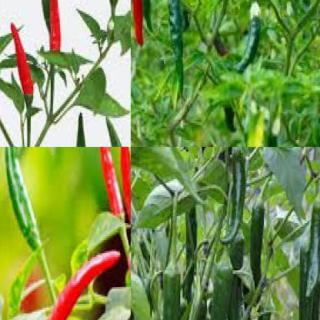green_chilli: (5, 147, 43, 258), (218, 151, 250, 244), (165, 0, 187, 102), (231, 12, 267, 71), (226, 242, 245, 319), (183, 213, 199, 302), (249, 199, 264, 293), (208, 263, 233, 319), (305, 205, 319, 297), (296, 247, 312, 319), (162, 266, 182, 319), (105, 118, 130, 146), (29, 0, 50, 30), (72, 111, 88, 146), (222, 106, 239, 133), (143, 0, 155, 36), (309, 282, 319, 320)
